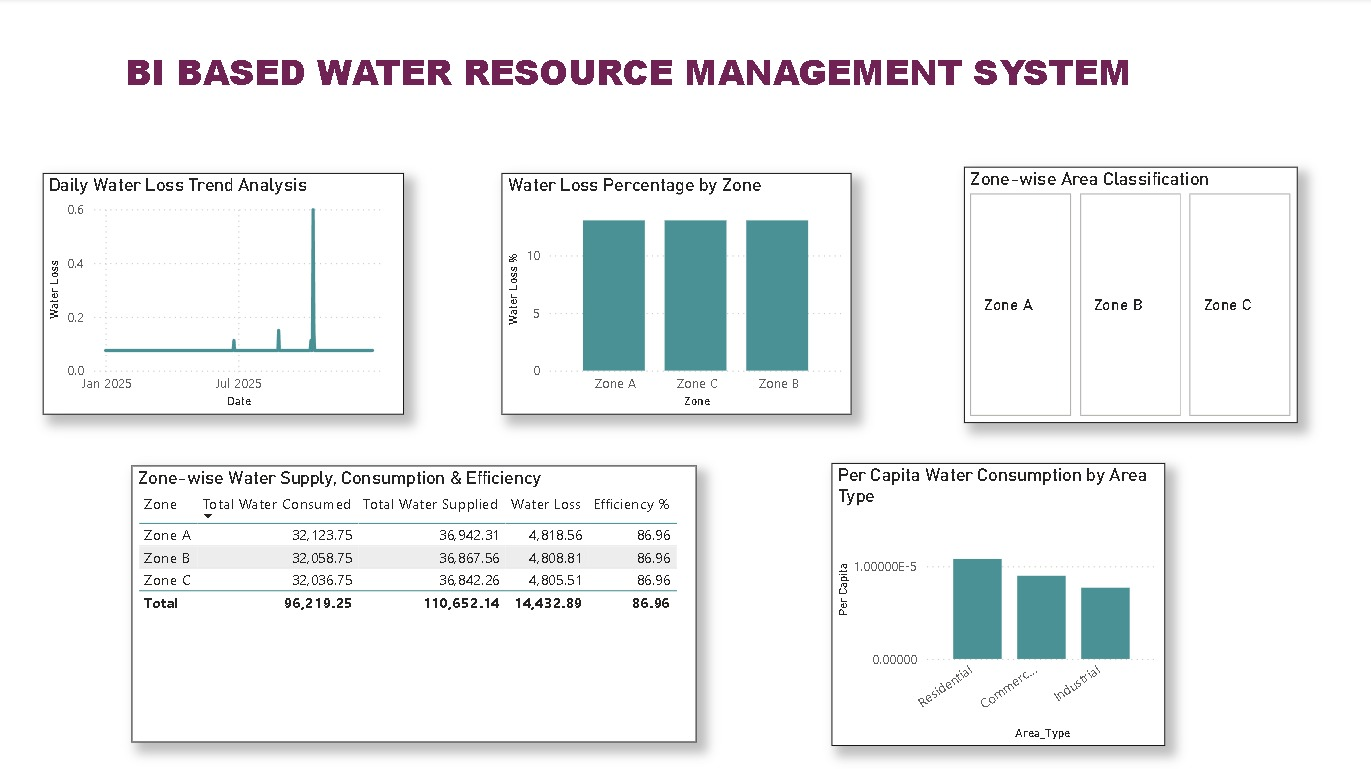

This screenshot's page, from the dashboard's own definition file:
{"tool":"powerbi","page":{"name":"Detailed Water Analysis","canvas":[1280,720],"ordinal":1},"visuals":[{"type":"tableEx","title":"Zone-wise Water Supply, Consumption & Efficiency","fields":{"Values":["cleaned_water_dataset.Zone","Date_Table.Total Water Consumed","Date_Table.Total Water Supplied","Date_Table.Water Loss","Date_Table.Efficiency %"]},"box":[123.5,435,525.6,258],"z":0},{"type":"clusteredColumnChart","title":"Water Loss Percentage by Zone","fields":{"Category":["cleaned_water_dataset.Zone"],"Y":["Date_Table.Water Loss %"]},"box":[467.9,163.3,325.2,225],"z":1000},{"type":"columnChart","title":"Per Capita Water Consumption by Area Type","fields":{"Category":["cleaned_water_dataset.Area_Type"],"Y":["Date_Table.Per Capita"]},"box":[773.9,432.2,310.1,263.5],"z":2000},{"type":"lineChart","title":"Daily Water Loss Trend Analysis","fields":{"Category":["Date_Table.Date"],"Y":["Date_Table.Water Loss"]},"box":[41.2,163.3,336.2,225],"z":3000},{"type":"advancedSlicerVisual","title":"Zone-wise Area Classification","fields":{"Values":["cleaned_water_dataset.Zone"]},"box":[897.4,156.4,310.1,238.8],"z":4000},{"type":"textbox","box":[112.5,41.2,1060.7,108.4],"z":5000}]}

Visuals, with their boxes in screenshot pixels (x1, y1, x2, y2), scaled from the page's 1280x720 canvas onto the 1371x769 screenshot:
"Zone-wise Water Supply, Consumption & Efficiency" tableEx: (left=132, top=465, right=695, bottom=740)
"Water Loss Percentage by Zone" clusteredColumnChart: (left=501, top=174, right=849, bottom=415)
"Per Capita Water Consumption by Area Type" columnChart: (left=829, top=462, right=1161, bottom=743)
"Daily Water Loss Trend Analysis" lineChart: (left=44, top=174, right=404, bottom=415)
"Zone-wise Area Classification" advancedSlicerVisual: (left=961, top=167, right=1293, bottom=422)
textbox: (left=120, top=44, right=1257, bottom=160)
